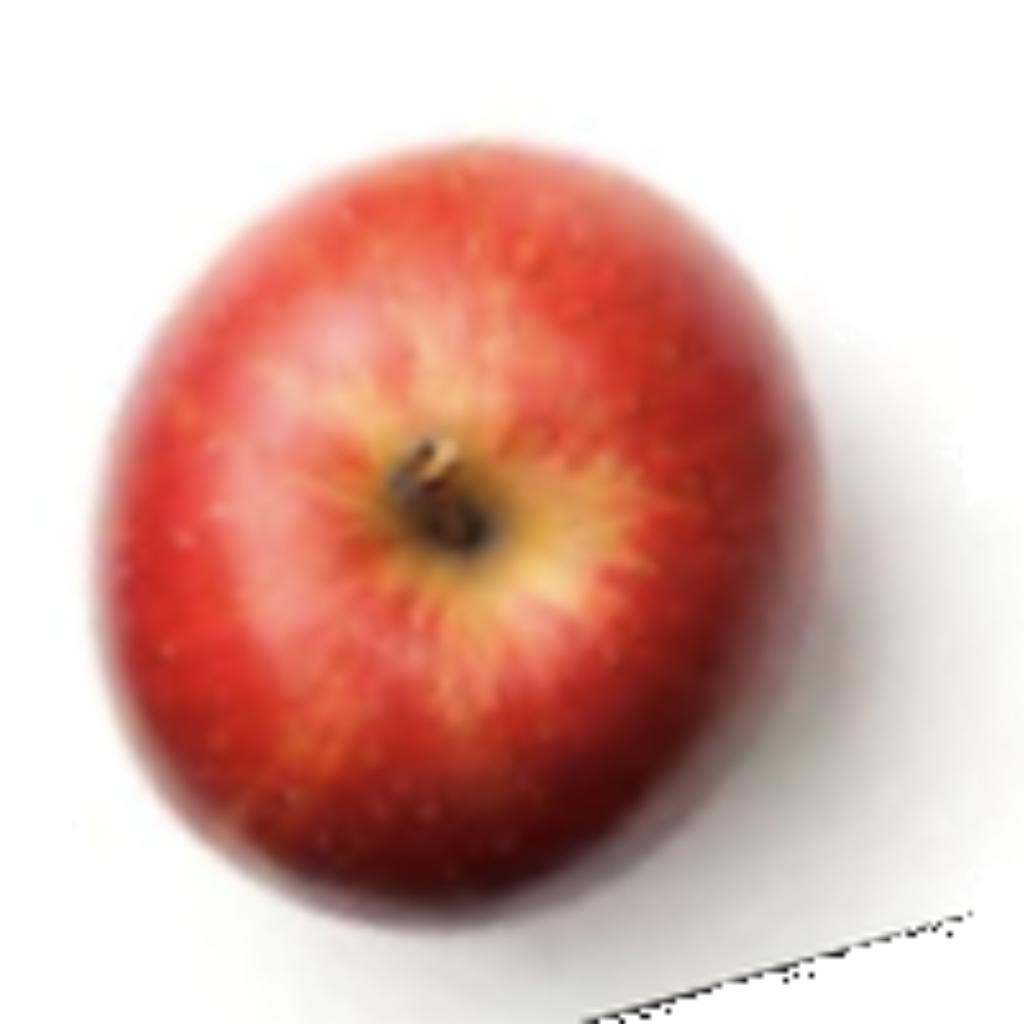apple: (72, 123, 932, 993)
